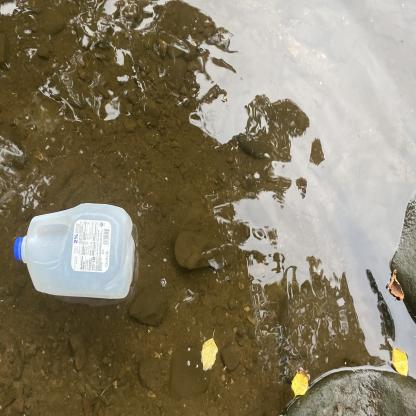trash: (8, 198, 144, 306)
